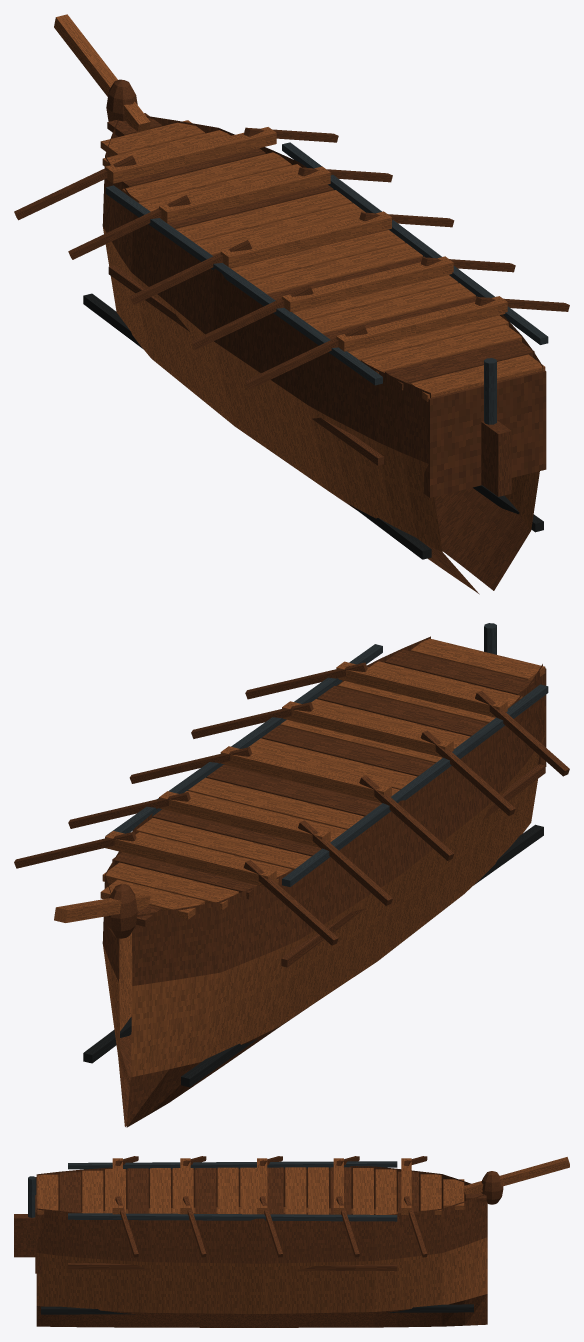
The model's file is KIT_ship_longboat.gltf.
3 views of the same model, one above another, from view 1: azimuth 30°, elevation 25°; view 2: azimuth 150°, elevation 25°; view 3: azimuth 270°, elevation 25° (orthographic). The views are drawn at different scales.
Parts seen in each view (by area): view 1: hull, rudder; view 2: hull; view 3: hull, rudder.
Boxes of the visible parts, x1=… form: hull: x1=14, y1=14, x2=569, y2=594; rudder: x1=481, y1=358, x2=511, y2=496; hull: x1=14, y1=636, x2=569, y2=1127; hull: x1=35, y1=1156, x2=569, y2=1327; rudder: x1=14, y1=1176, x2=36, y2=1257.
Size of the model in its own units: 3.61 by 2.84 by 8.63.
4 materials, 4 textured.
